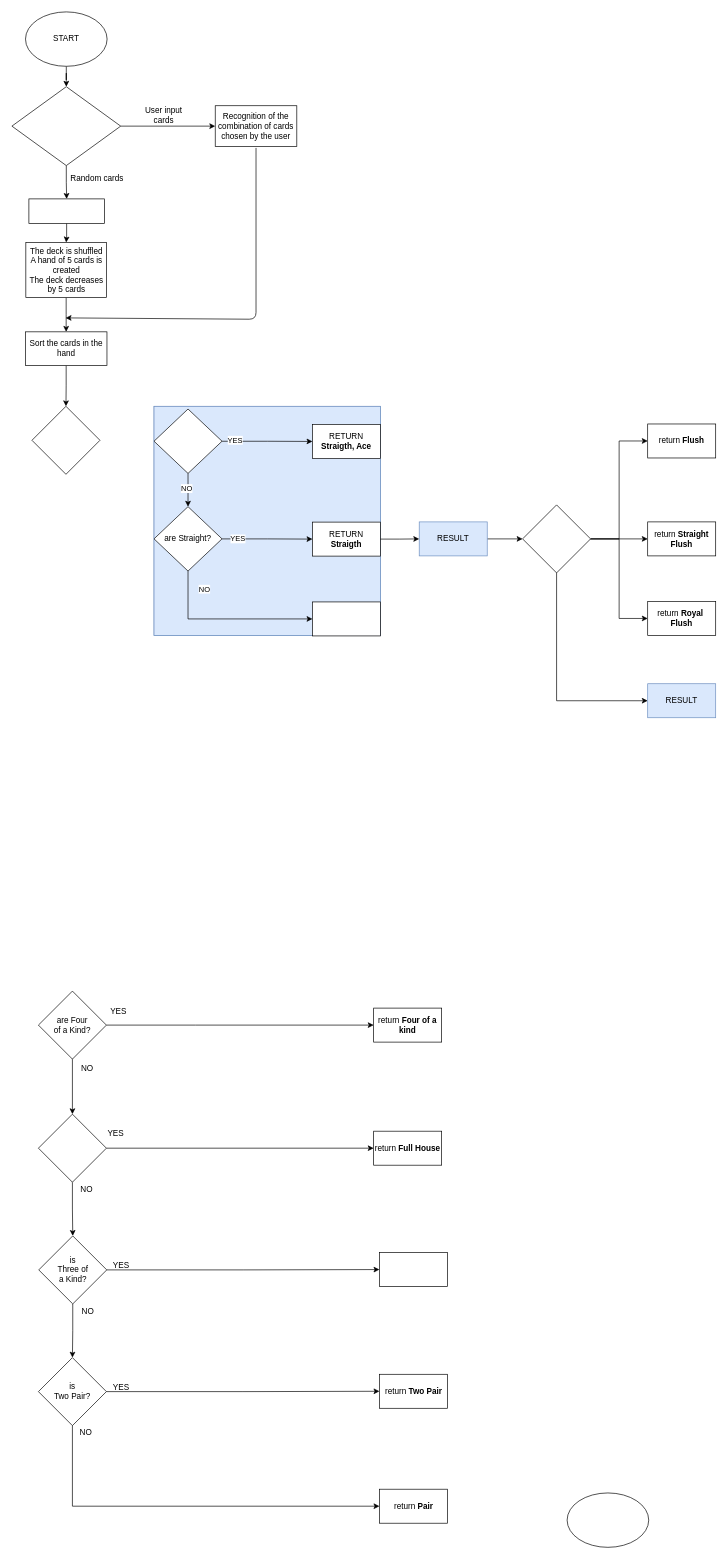
Some shapes in this 728 by 1559 pixel diagram are drawn without their labels. The shapes that lost their labels are listed below. From the top down, each one's centre as x and y in pixels, then its label:
the point at 66,126: The user chooses random deck or own combination
the point at 66,210: Generation of a deck of 52 cards
the point at 65,440: are Different card?
the point at 187,440: are Straight 10,J,Q,K,A?
the point at 556,538: are Flush?
the point at 346,618: return High Card
the point at 72,1148: are Full House?
the point at 413,1269: return Three of a Kind
the point at 607,1519: END
